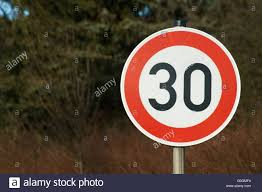Speed_limit_30km: (122, 27, 238, 143)
